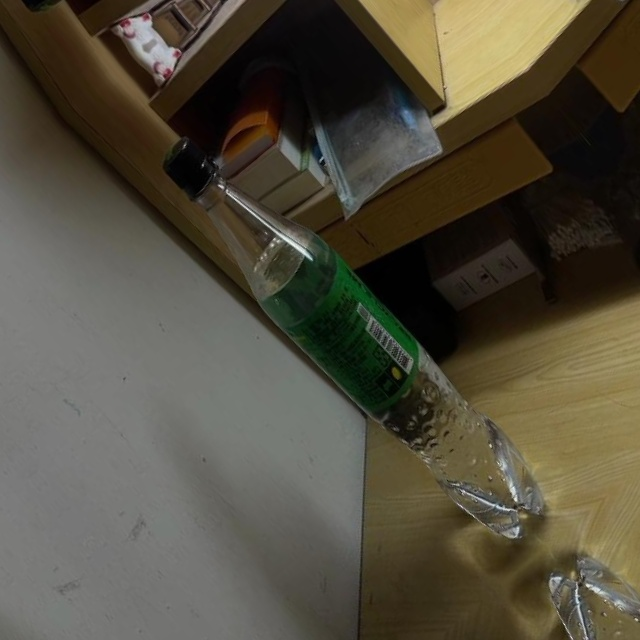Sprite: (145, 100, 564, 571)
